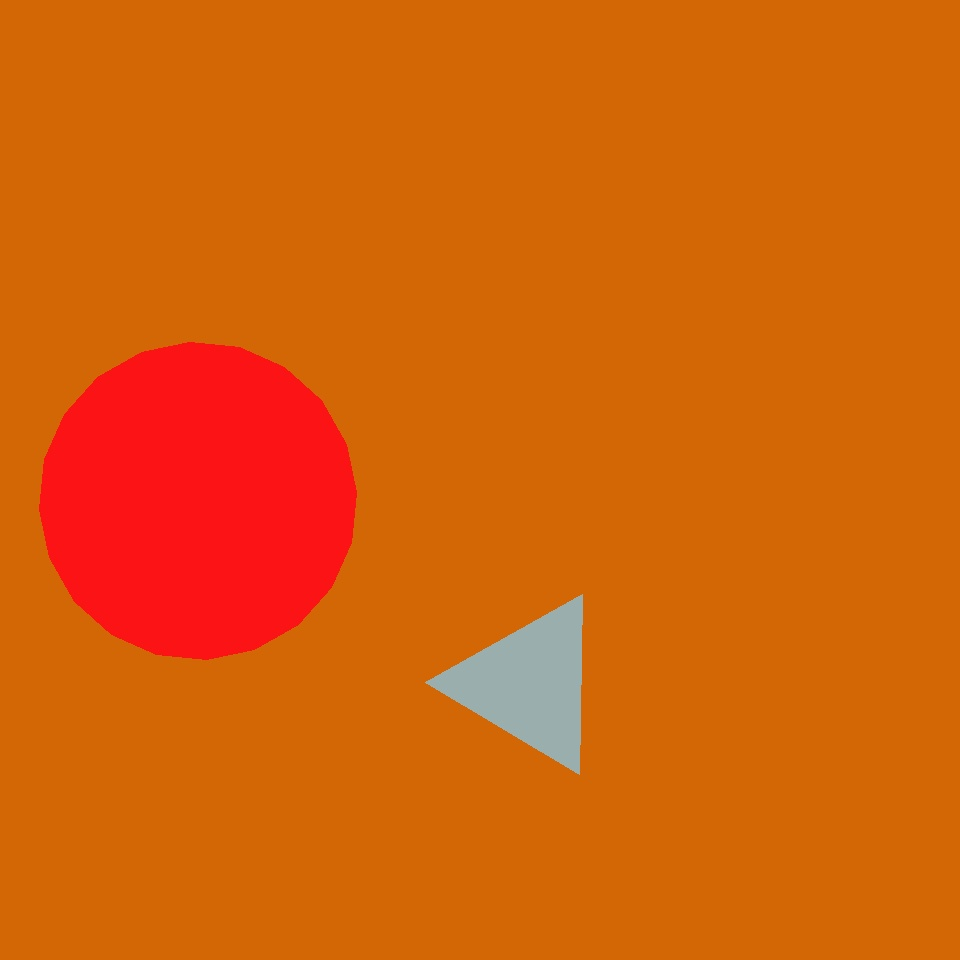circle: (137, 657, 377, 868), (450, 594, 608, 774), (515, 469, 684, 633), (48, 765, 163, 867)
square: (260, 379, 635, 754)
triangle: (39, 342, 356, 660)
